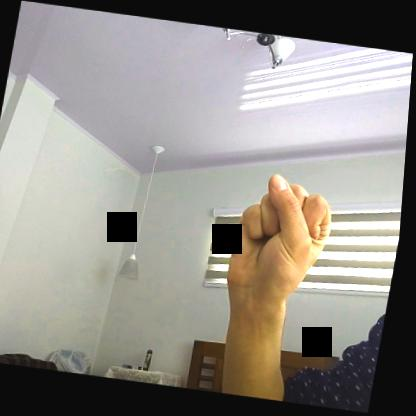S: (224, 166, 343, 314)
